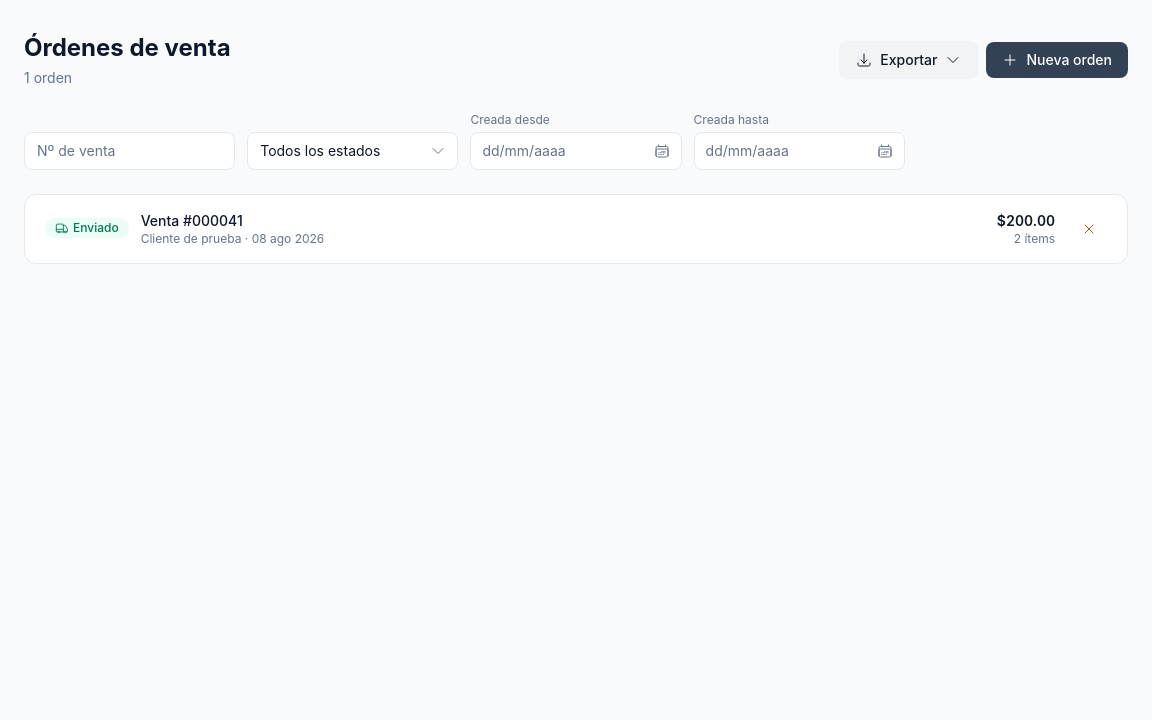
Test: SaleOrdersPage — cancelar una orden ya enviada (T2-42) › confirmar envía la transición a CANCELLED y cierra el diálogo
This screenshot has width=1152, height=720.
Click the button named "Cancelar la orden enviada Venta #000041".
click(1089, 229)  # box x1=1071 y1=211 x2=1107 y2=247
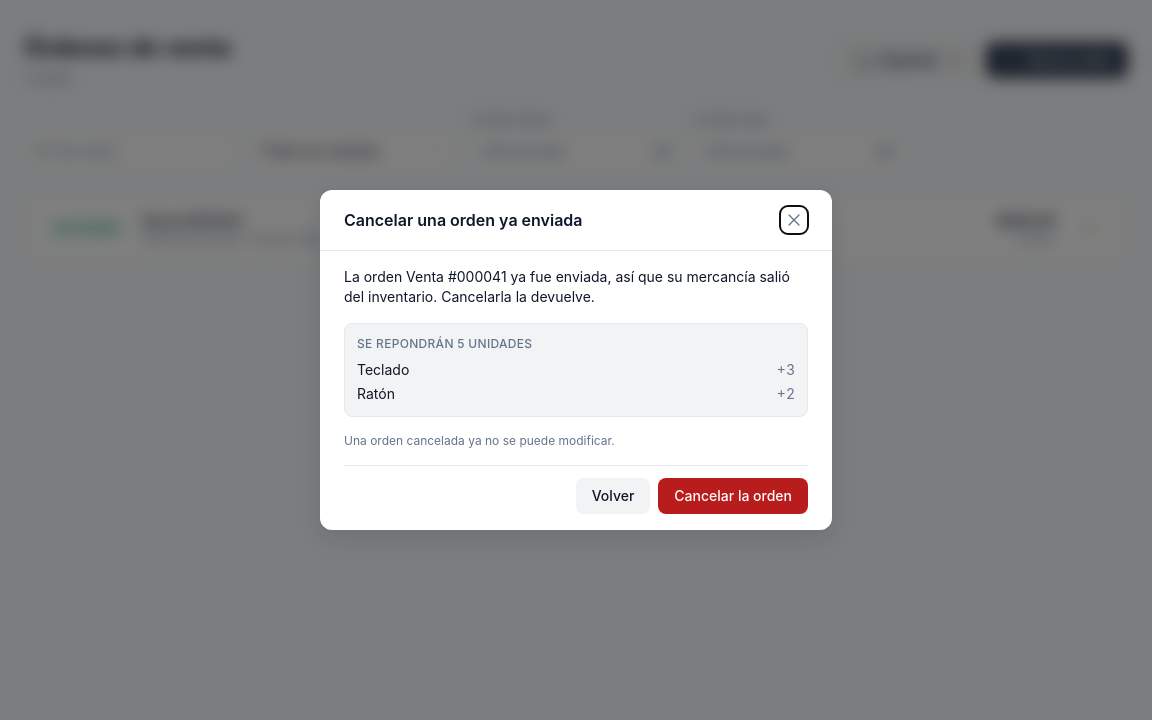
Click the button "Cancelar la orden".
click(733, 496)  # box x1=658 y1=478 x2=808 y2=514
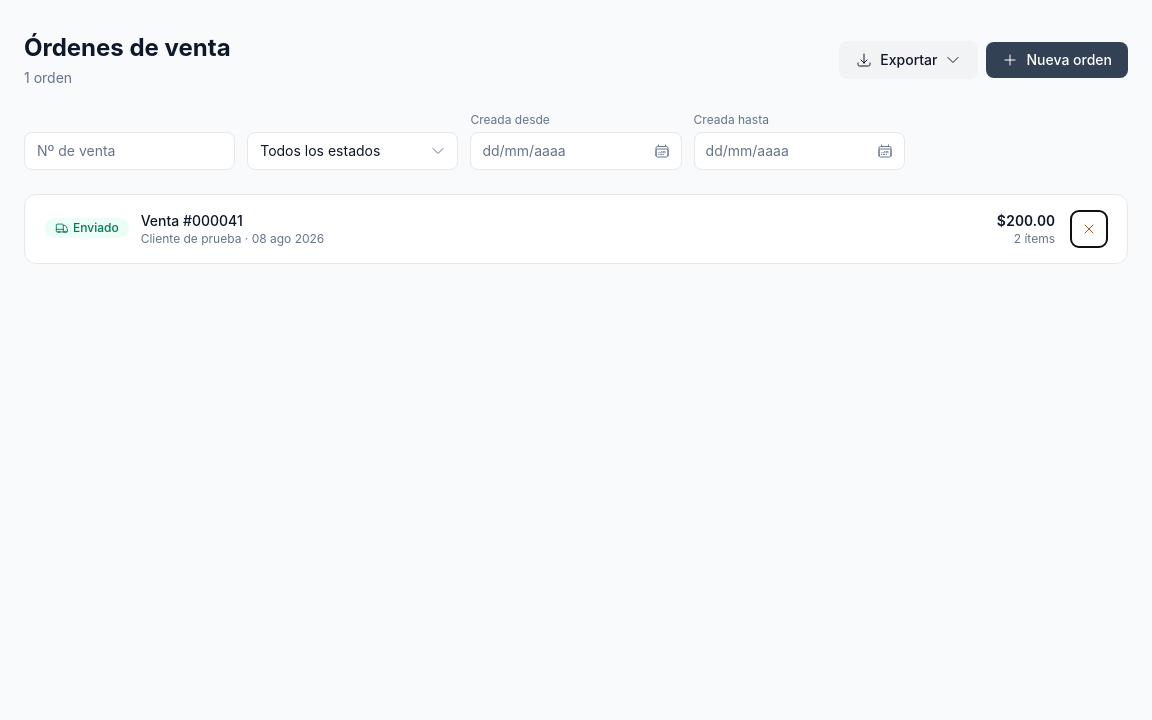
Result: the dialog is gone
